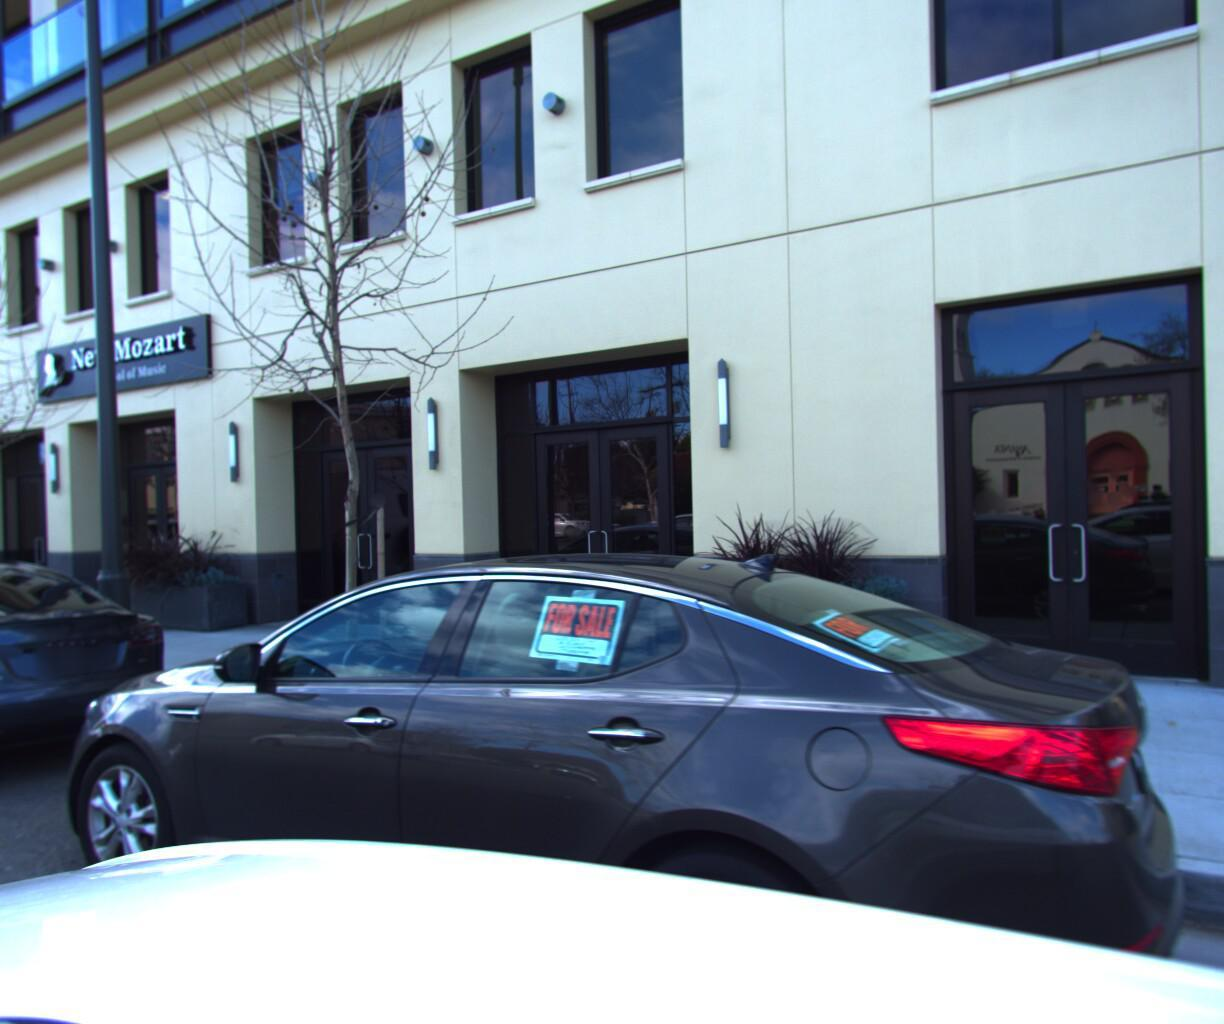car: (0, 523, 1224, 1024), (0, 538, 212, 840)
